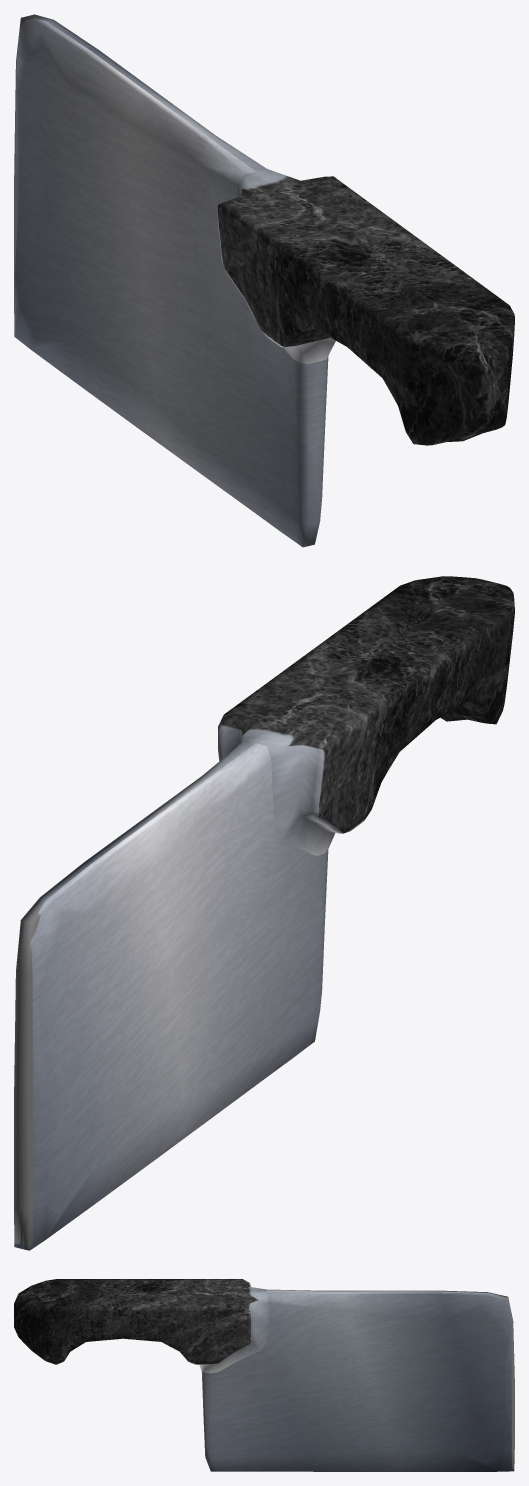
Rendered from CouperetWithTexturest.fbx.
3 views of the same model, one above another, from view 1: azimuth 30°, elevation 25°; view 2: azimuth 150°, elevation 25°; view 3: azimuth 270°, elevation 25° (orthographic). The views are drawn at different scales.
Parts seen in each view (by area): view 1: pCube1; view 2: pCube1; view 3: pCube1.
Part boxes in pixels (left/top/right/bottom): pCube1: left=14, top=14, right=514, bottom=547; pCube1: left=14, top=576, right=514, bottom=1250; pCube1: left=14, top=1279, right=514, bottom=1471.
Bounding box in the file's own units: 0.9743 × 2.84 × 7.27.
Materials: 1 (1 with a texture image).
